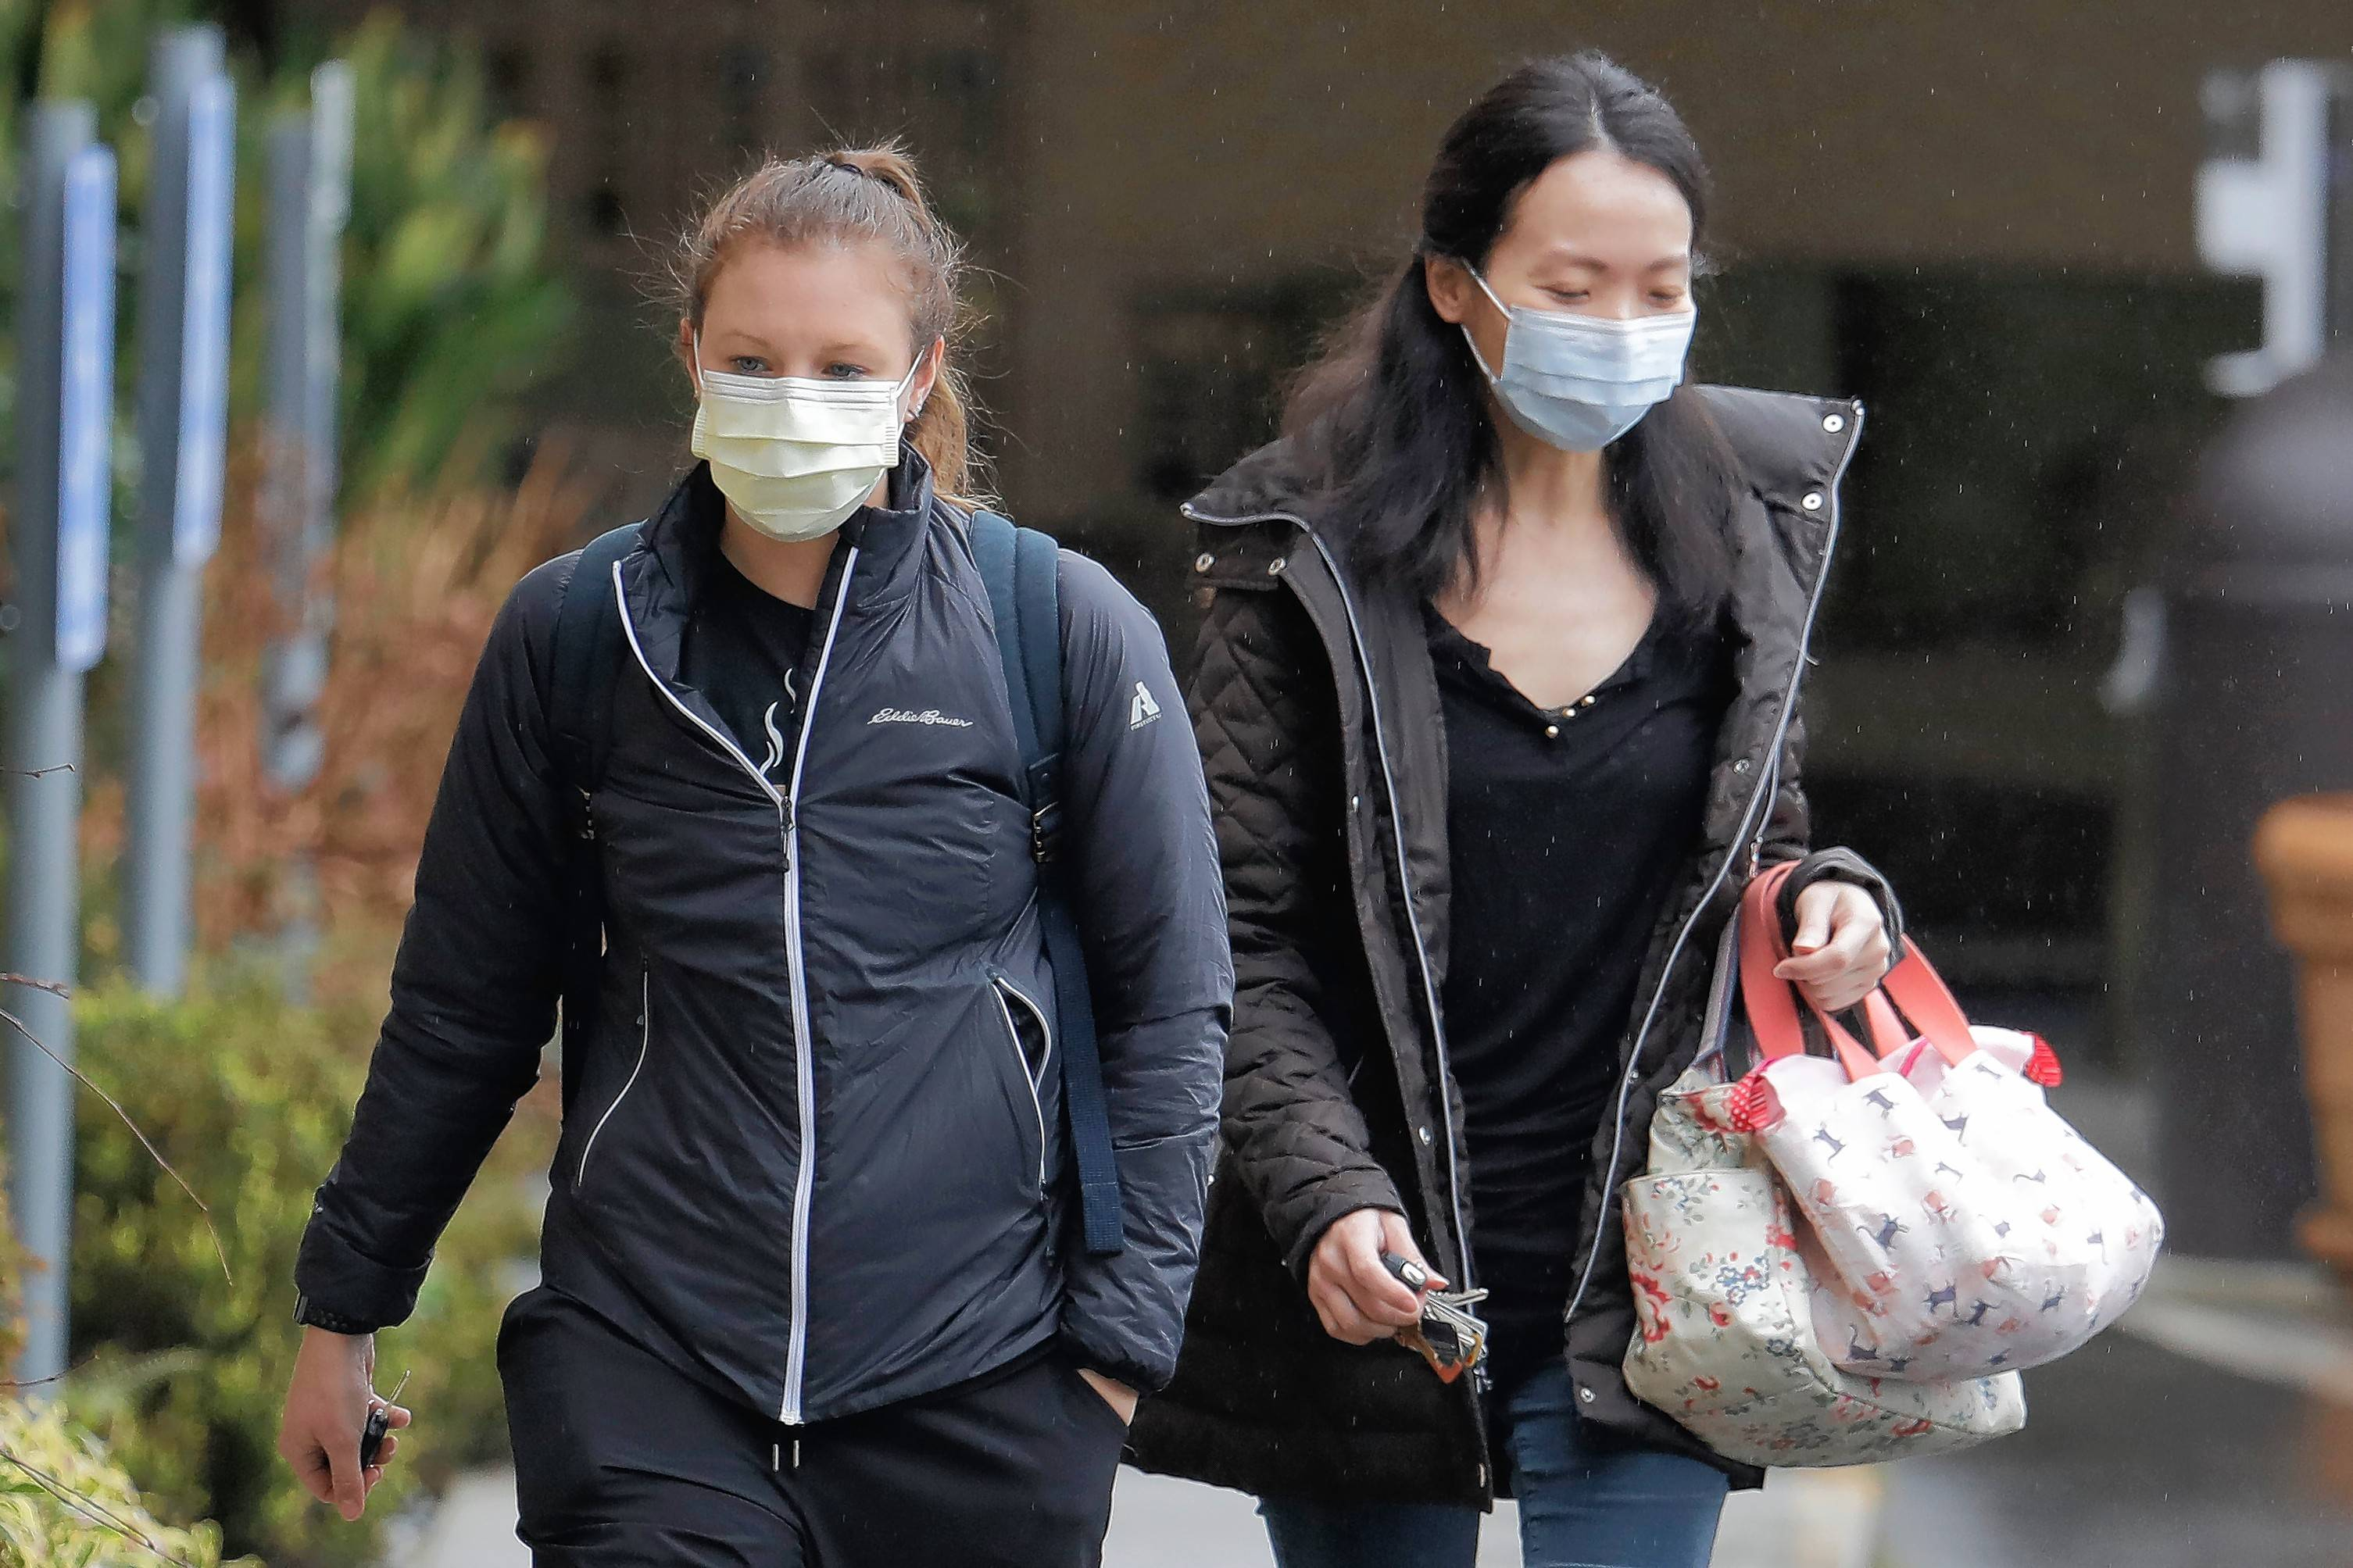mask: (677, 343, 931, 558), (1500, 287, 1712, 458)
